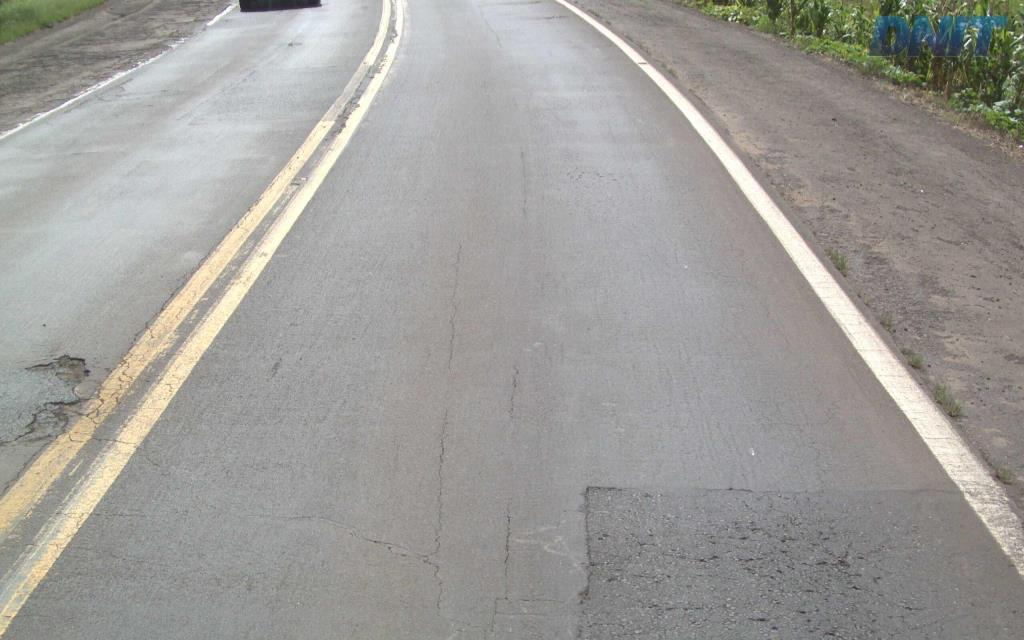crack: (767, 527, 874, 602), (800, 598, 880, 639), (578, 534, 604, 605)
